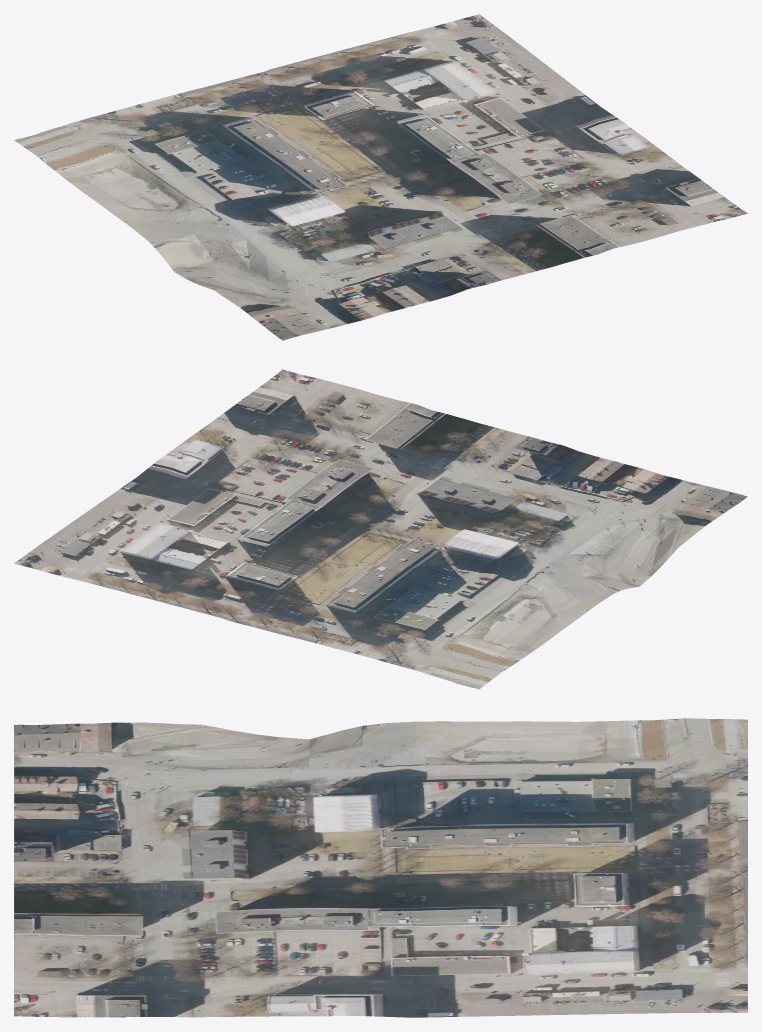
File: CM_Terrain_24488001_6821227.fbx
The picture shows the model from 3 angles, top to bottom: view 1: azimuth 30°, elevation 25°; view 2: azimuth 150°, elevation 25°; view 3: azimuth 270°, elevation 25°; orthographic projection. The views are drawn at different scales.
Parts seen in each view (by area): view 1: CM_Terrain_24488001_6821227_LOD0; view 2: CM_Terrain_24488001_6821227_LOD0; view 3: CM_Terrain_24488001_6821227_LOD0.
Boxes of the visible parts, <box> form: CM_Terrain_24488001_6821227_LOD0: <box>14,14,747,340</box>; CM_Terrain_24488001_6821227_LOD0: <box>14,369,747,689</box>; CM_Terrain_24488001_6821227_LOD0: <box>14,718,747,1017</box>.
Size of what is drawn, in the model's own units: 205 by 11.34 by 205.
